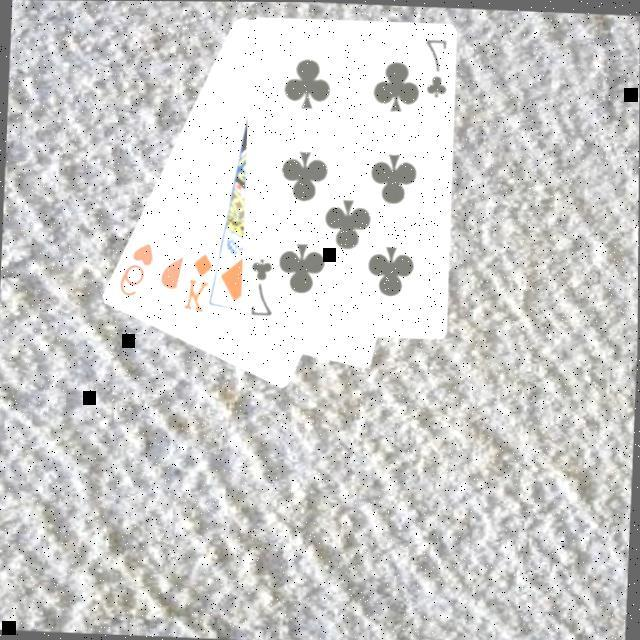6H: (112, 237, 154, 300)
7C: (244, 254, 275, 318), (418, 34, 448, 100)
KD: (178, 247, 214, 314)
